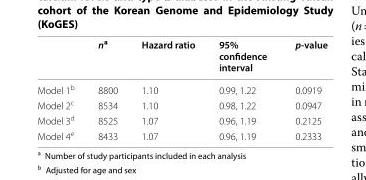table: (36, 37, 327, 141)
table column: (128, 37, 206, 141), (206, 37, 280, 141), (36, 37, 85, 141), (280, 37, 327, 141), (85, 37, 128, 141)
table column header: (36, 37, 327, 77)
table row: (36, 37, 327, 77), (36, 77, 327, 96), (36, 96, 327, 112), (36, 112, 327, 127), (36, 127, 327, 141)
